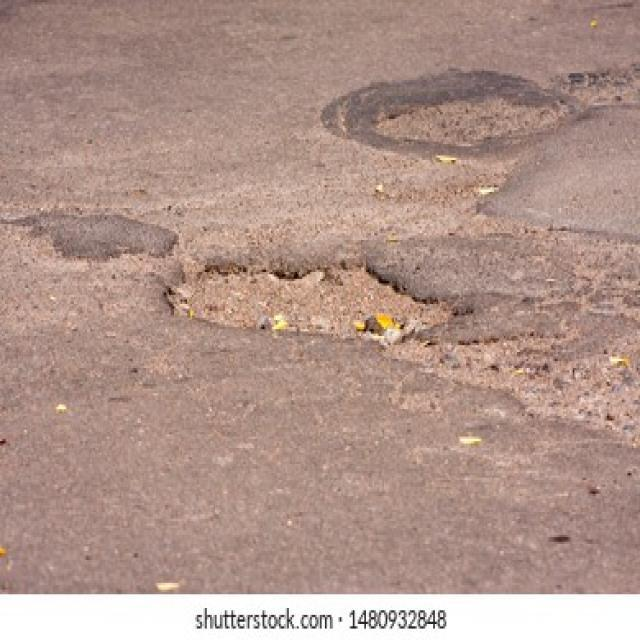Pothole: (162, 251, 454, 350), (364, 94, 566, 148)
